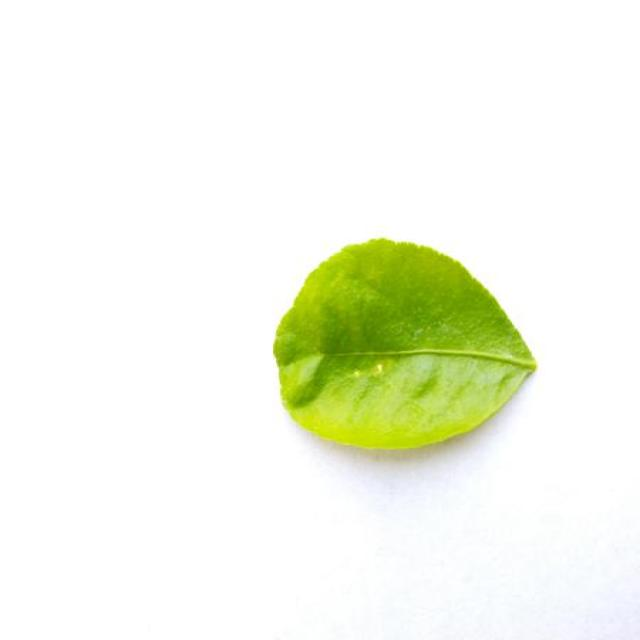lemon: (273, 239, 537, 448)
